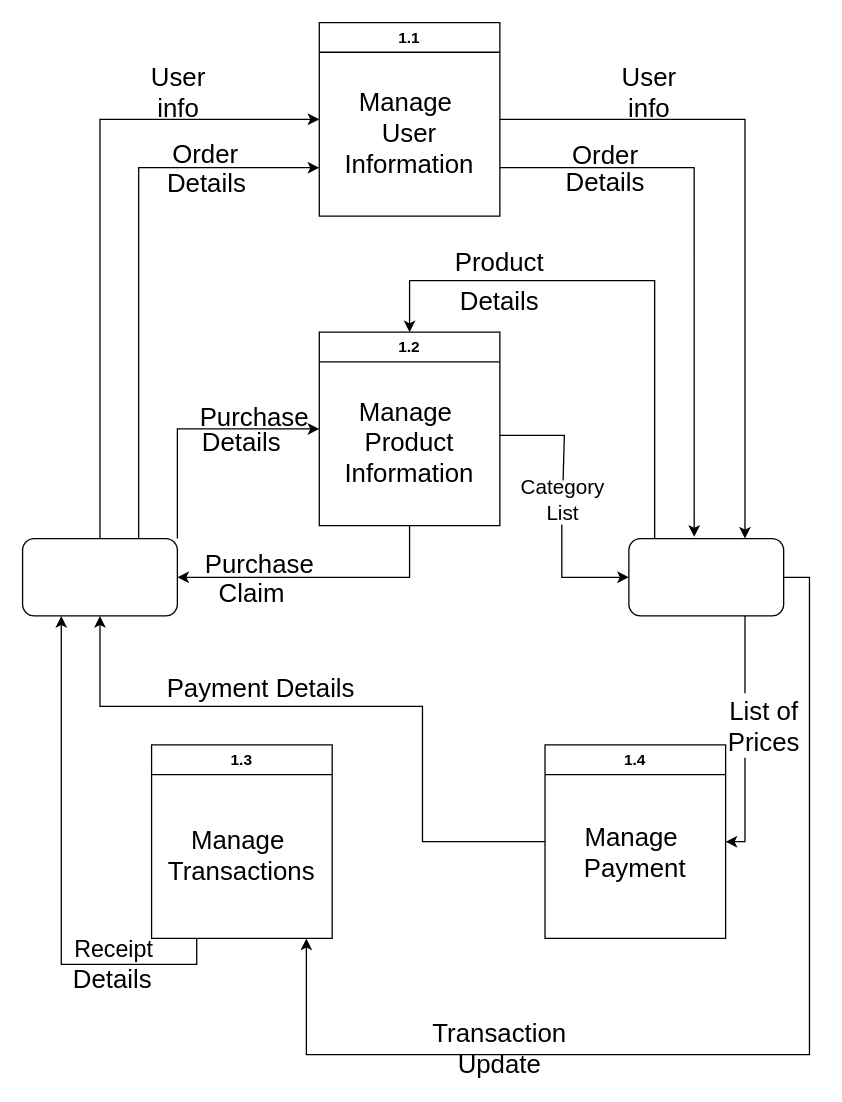
Some shapes in this 842 by 1102 pixel diagram are drawn without their labels. The shapes that lost their labels are listed below. From the top down, each one's centre as x and y in pixels, then its label:
At pixel 99 576: "Users".
At pixel 706 576: "Admin".
